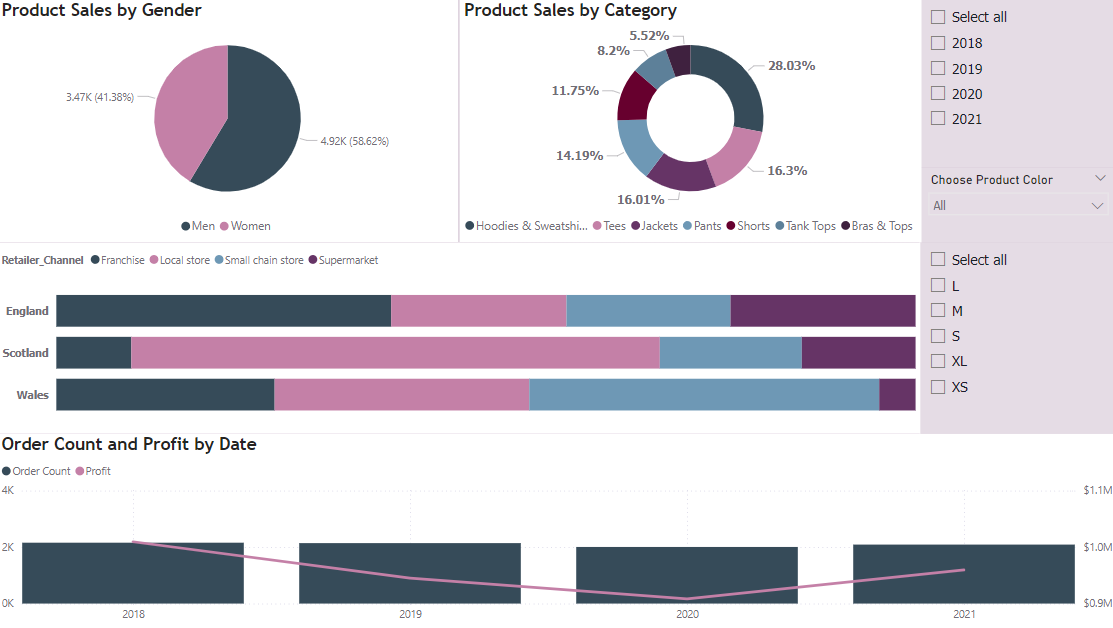

Layout of this report page (visuals, bound fields, positions):
{"tool":"powerbi","page":{"name":"Head of Sales","canvas":[1280,720],"ordinal":2},"visuals":[{"type":"donutChart","title":"Product Sales by Category","fields":{"Category":["Products.Product_Category","Retailers.Retailer_Channel"],"Y":["CountNonNull(Orders.Order_ID)"]},"box":[528.3,0,528.3,276.7],"z":0},{"type":"pieChart","title":"Product Sales by Gender","fields":{"Y":["CountNonNull(Orders.Order_ID)"],"Category":["Products.Product_Gender","Retailers.Retailer_Channel"]},"box":[0,0,527.1,277.1],"z":1000},{"type":"hundredPercentStackedBarChart","fields":{"Y":["Sum(Orders. Order_Quantity )"],"Category":["Retailers.Country"],"Series":["Retailers.Retailer_Channel"]},"box":[0,276.7,1055,218.3],"z":2000},{"type":"slicer","fields":{"Values":["Orders.Order_Date.Variation.Date Hierarchy.Year"]},"box":[1054.3,0,225.7,191.4],"z":3000},{"type":"slicer","fields":{"Values":["Products.Product_Color"]},"box":[1054.3,191.4,225.7,85.7],"z":4000},{"type":"slicer","fields":{"Values":["Products.Product_Size"]},"box":[1054.3,277.1,225.7,218.6],"z":5000},{"type":"lineStackedColumnComboChart","title":"Order Count and Profit by Date","fields":{"Category":["Orders.Order_Date.Variation.Date Hierarchy.Year","Orders.Order_Date.Variation.Date Hierarchy.Month","Orders.Order_Date.Variation.Date Hierarchy.Day"],"Y2":["Sum(Orders.Profit)"],"Y":["CountNonNull(Orders.Order_ID)"]},"box":[0,495.7,1280,224.3],"z":6000}]}

Visuals, with their boxes in screenshot pixels (x1, y1, x2, y2), scaled from the page's 1280x720 canvas onto the 1113x628 screenshot:
"Product Sales by Category" donutChart: x1=459, y1=0, x2=919, y2=241
"Product Sales by Gender" pieChart: x1=0, y1=0, x2=458, y2=242
hundredPercentStackedBarChart - Sum(Orders. Order_Quantity ) x Retailers.Country: x1=0, y1=241, x2=917, y2=432
slicer - Orders.Order_Date.Variation.Date Hierarchy.Year: x1=917, y1=0, x2=1112, y2=167
slicer - Products.Product_Color: x1=917, y1=167, x2=1112, y2=242
slicer - Products.Product_Size: x1=917, y1=242, x2=1112, y2=432
"Order Count and Profit by Date" lineStackedColumnComboChart: x1=0, y1=432, x2=1112, y2=627
